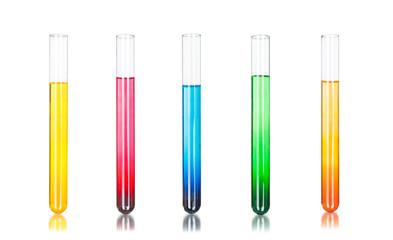Test tube: (314, 29, 350, 226), (106, 14, 140, 212), (245, 28, 280, 217), (174, 25, 205, 215), (48, 25, 75, 219)
